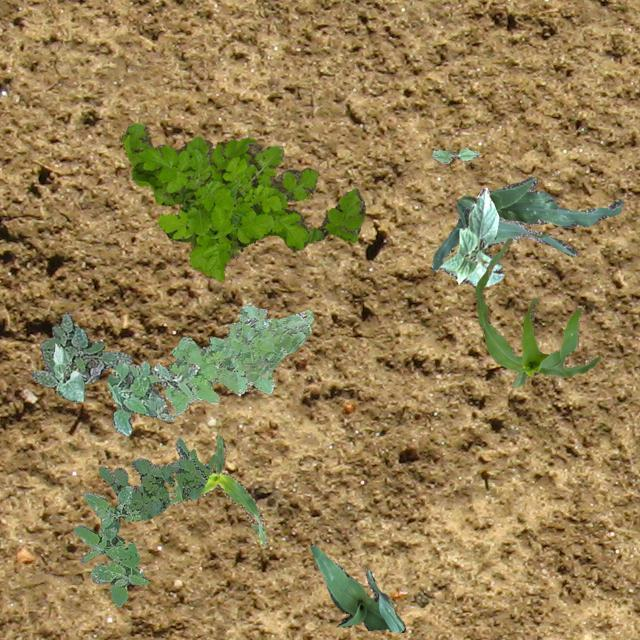crop: (472, 236, 600, 386), (429, 176, 622, 270), (166, 434, 266, 544), (310, 544, 404, 632), (438, 187, 502, 286), (51, 342, 84, 402), (432, 148, 479, 162)
weed: (122, 122, 364, 280), (162, 304, 312, 414), (98, 438, 216, 520), (72, 484, 148, 606), (30, 310, 130, 386), (106, 356, 198, 434)
